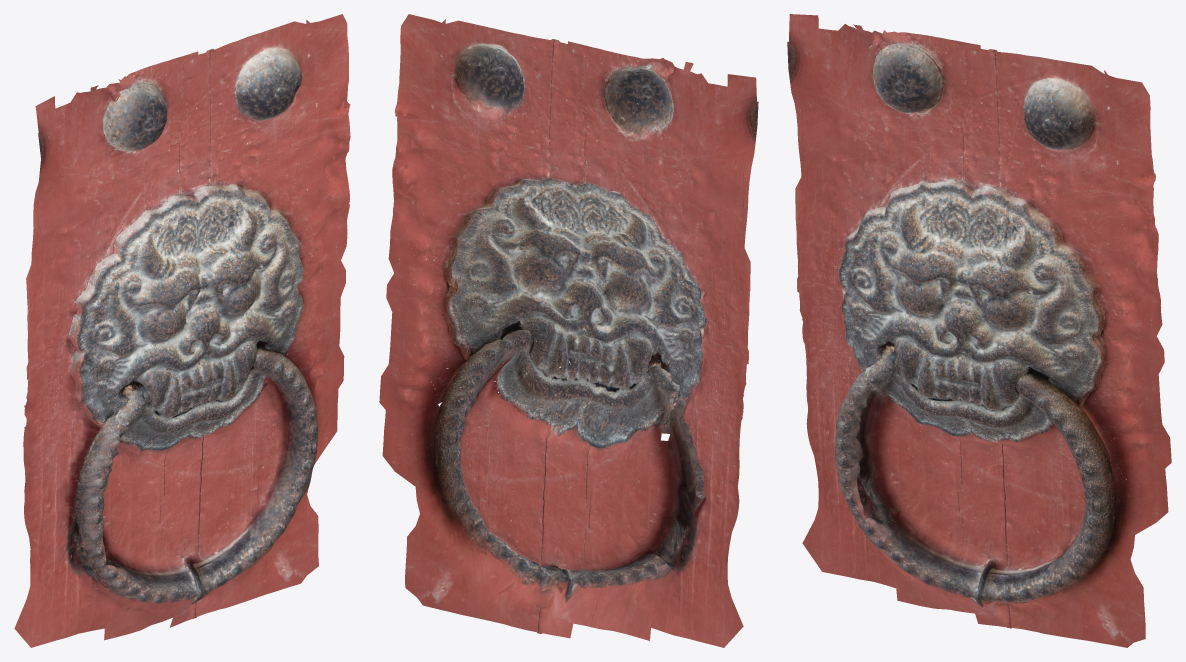
The model's file is door.glb.
The picture shows the model from 3 angles, left to right: view 1: azimuth 30°, elevation 25°; view 2: azimuth 150°, elevation 25°; view 3: azimuth 330°, elevation 25°; orthographic projection.
Visible parts, largest first — view 1: Object_6, Object_3, Object_2, Object_5, Object_7, Object_4; view 2: Object_3, Object_6, Object_2, Object_5, Object_7, Object_4; view 3: Object_3, Object_6, Object_2, Object_5, Object_7, Object_4.
Part boxes in pixels (x1=…): Object_6: x1=23, y1=14, x2=350, y2=627; Object_3: x1=14, y1=43, x2=350, y2=647; Object_2: x1=24, y1=149, x2=343, y2=531; Object_5: x1=24, y1=102, x2=328, y2=481; Object_7: x1=25, y1=73, x2=328, y2=445; Object_4: x1=170, y1=202, x2=259, y2=422; Object_3: x1=379, y1=45, x2=743, y2=647; Object_6: x1=382, y1=14, x2=743, y2=638; Object_2: x1=381, y1=133, x2=749, y2=540; Object_5: x1=408, y1=96, x2=746, y2=474; Object_7: x1=408, y1=58, x2=758, y2=438; Object_4: x1=522, y1=190, x2=626, y2=398; Object_3: x1=802, y1=41, x2=1171, y2=614; Object_6: x1=802, y1=30, x2=1168, y2=647; Object_2: x1=796, y1=92, x2=1169, y2=552; Object_5: x1=799, y1=122, x2=1141, y2=437; Object_7: x1=787, y1=14, x2=1142, y2=423; Object_4: x1=919, y1=213, x2=1025, y2=409.
Size of the model in its own units: 0.512 by 0.823 by 0.1119.
Materials: 2 (2 with a texture image).
